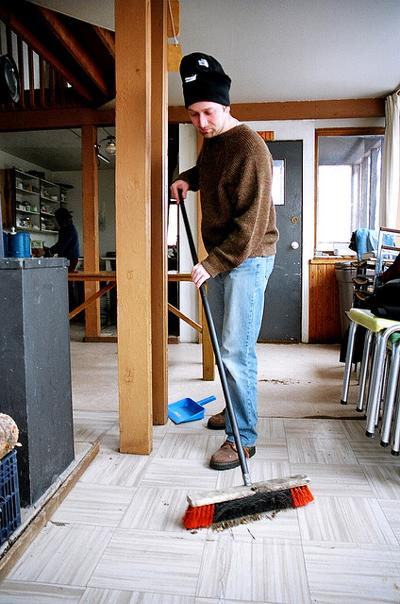person: (171, 53, 278, 473)
